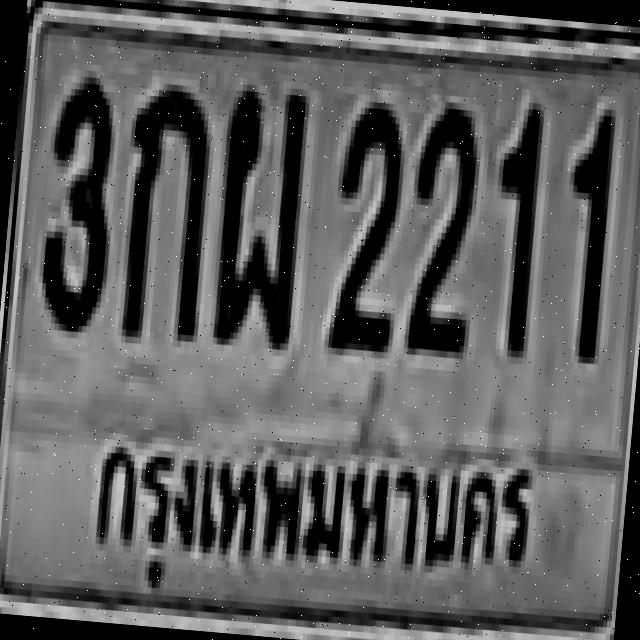1: (483, 97, 541, 354), (554, 103, 612, 360)
10GorGai: (114, 78, 210, 338)
2: (324, 96, 405, 348), (400, 99, 480, 345)
3: (35, 68, 120, 327)
37PhorPhueng: (205, 80, 306, 346)
Bangkok: (76, 406, 543, 620)
